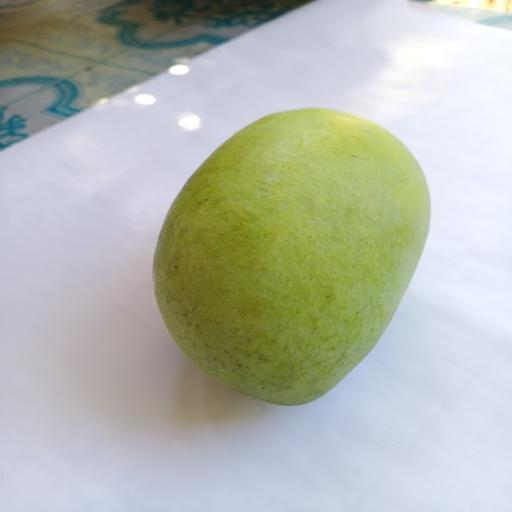mango-unripe: (138, 92, 446, 419)
